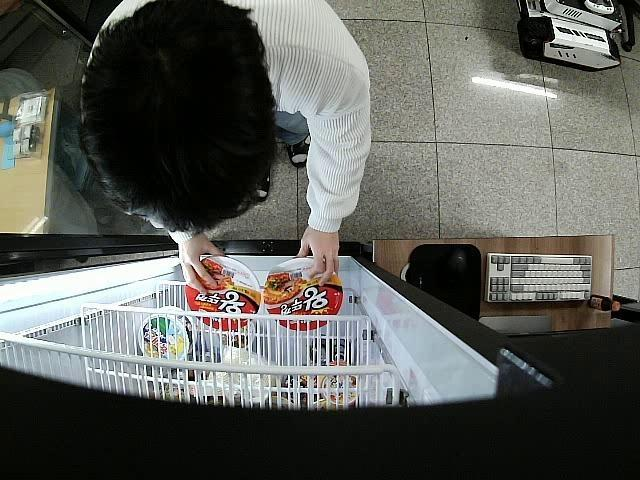10_wangTtukkeong: (184, 255, 262, 331), (266, 258, 344, 330)
